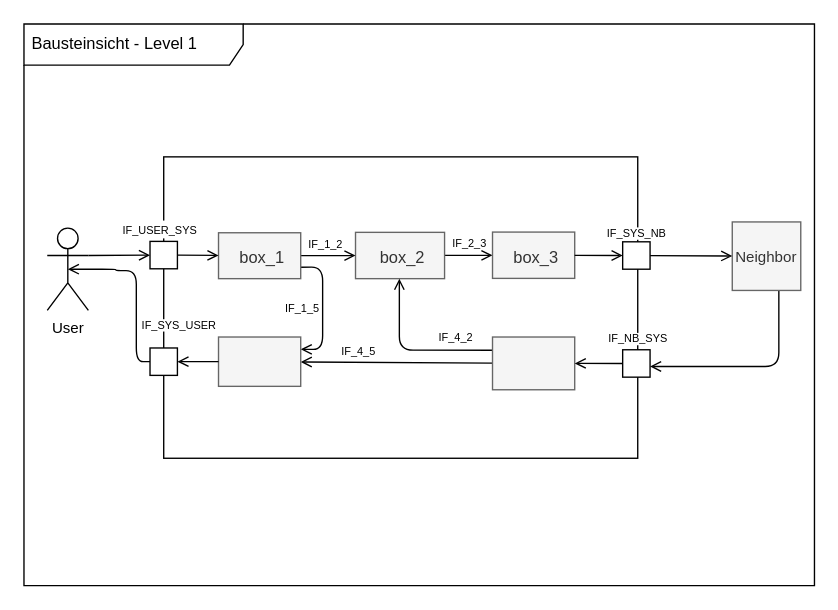
Some shapes in this 838 by 610 pixel diagram are drawn without their labels. The shapes that lost their labels are listed below. From the top down, each one's box as (x1, y1, x2, y2) in pixels, then its label:
(162, 155, 638, 458): System
(217, 336, 301, 386): box_5
(491, 336, 575, 390): box_4
